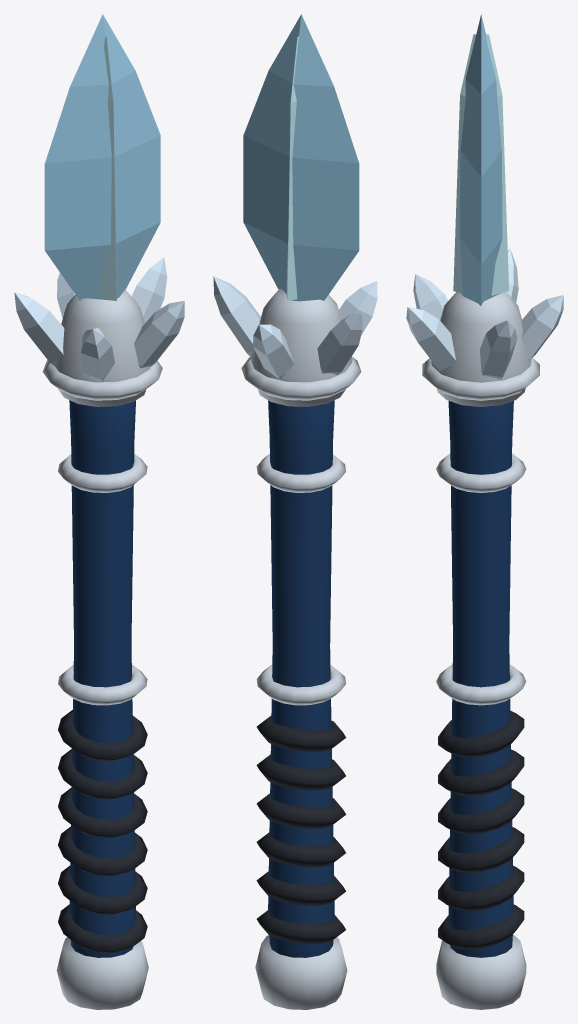
Rendered from Tool_T6.fbx.
3 renders of one model, left to right at view 1: azimuth 30°, elevation 25°; view 2: azimuth 150°, elevation 25°; view 3: azimuth 270°, elevation 25°, orthographic.
Visible parts, largest first — view 1: ToolT6Handle, ToolT6Head; view 2: ToolT6Handle, ToolT6Head; view 3: ToolT6Handle, ToolT6Head.
Boxes of the visible parts, x1,y1,x2,y2 form: ToolT6Handle: (56, 400, 148, 1009); ToolT6Head: (14, 14, 184, 406); ToolT6Handle: (255, 400, 347, 1009); ToolT6Head: (213, 14, 377, 406); ToolT6Handle: (436, 401, 526, 1009); ToolT6Head: (406, 14, 563, 406).
Bounding box in the file's own units: 76.86 × 484 × 70.47.
